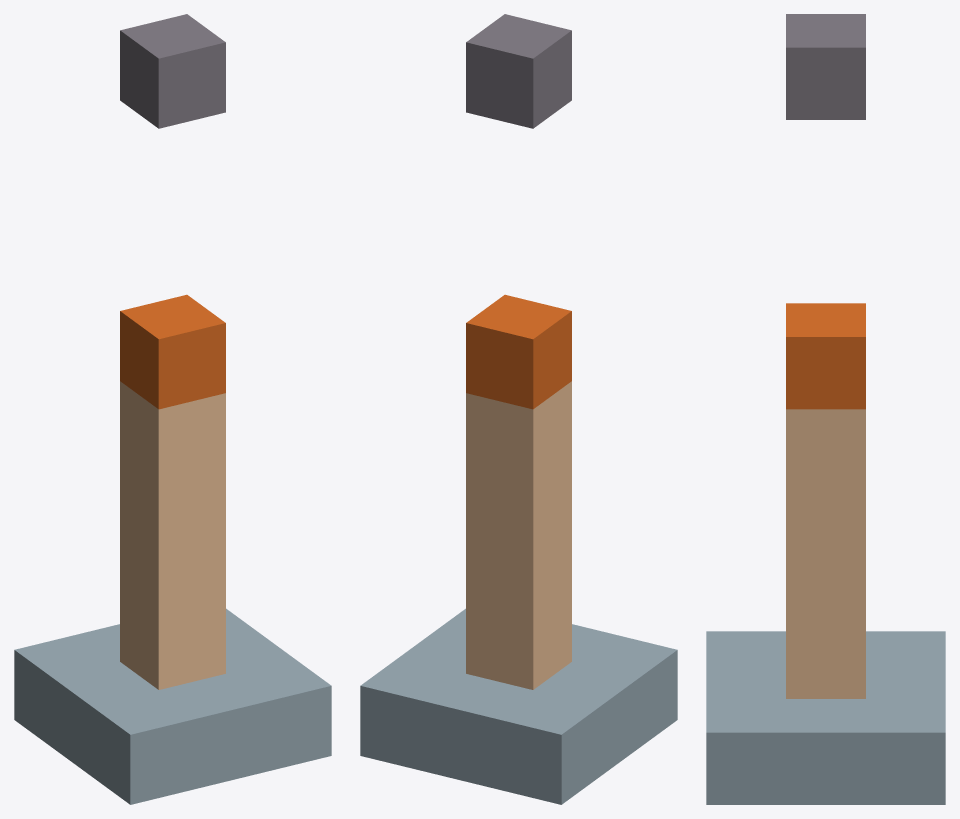
File: Candle3.obj
3 renders of one model, left to right at view 1: azimuth 30°, elevation 25°; view 2: azimuth 150°, elevation 25°; view 3: azimuth 270°, elevation 25°, orthographic. The views are drawn at different scales.
Size of the model in its own units: 3 by 10 by 3.
1 material, 1 textured.
